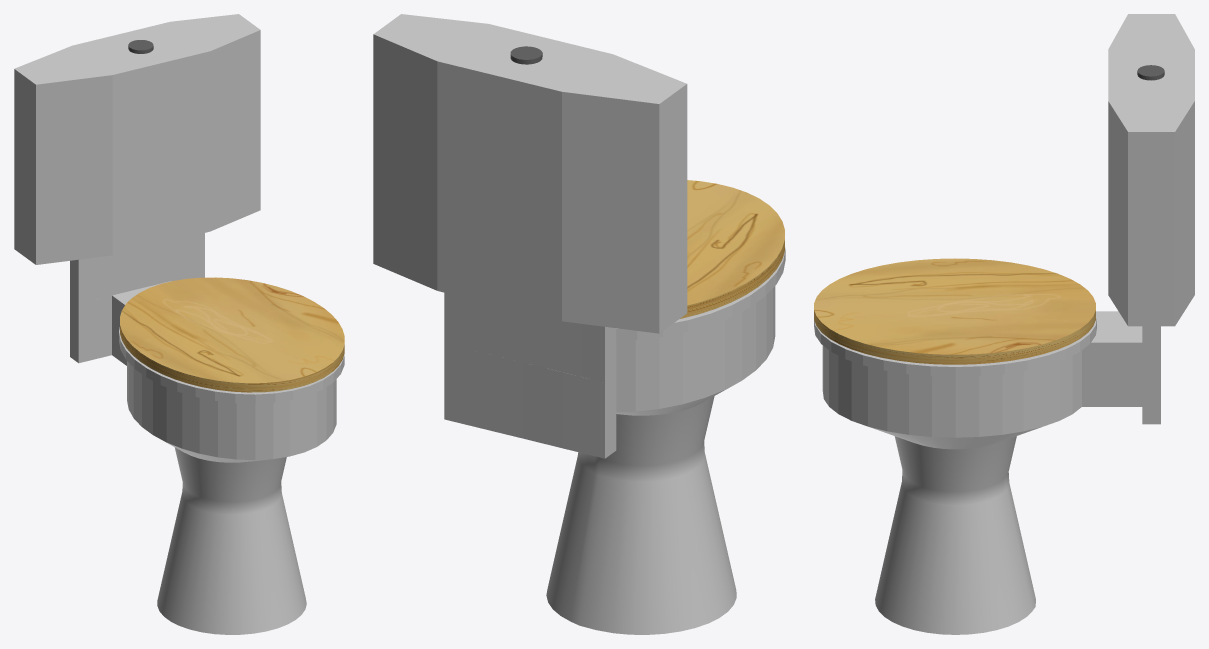
Rendered from toilet closed.fbx.
The picture shows the model from 3 angles, left to right: view 1: azimuth 30°, elevation 25°; view 2: azimuth 150°, elevation 25°; view 3: azimuth 270°, elevation 25°; orthographic projection. The views are drawn at different scales.
Visible parts, largest first — view 1: pCylinder19; view 2: pCylinder19; view 3: pCylinder19.
Boxes of the visible parts, <box> form: pCylinder19: <box>14,14,344,634</box>; pCylinder19: <box>373,14,785,634</box>; pCylinder19: <box>814,14,1194,634</box>.
Size of the model in its own units: 3.49 by 7.31 by 4.76.
3 materials, 1 textured.
